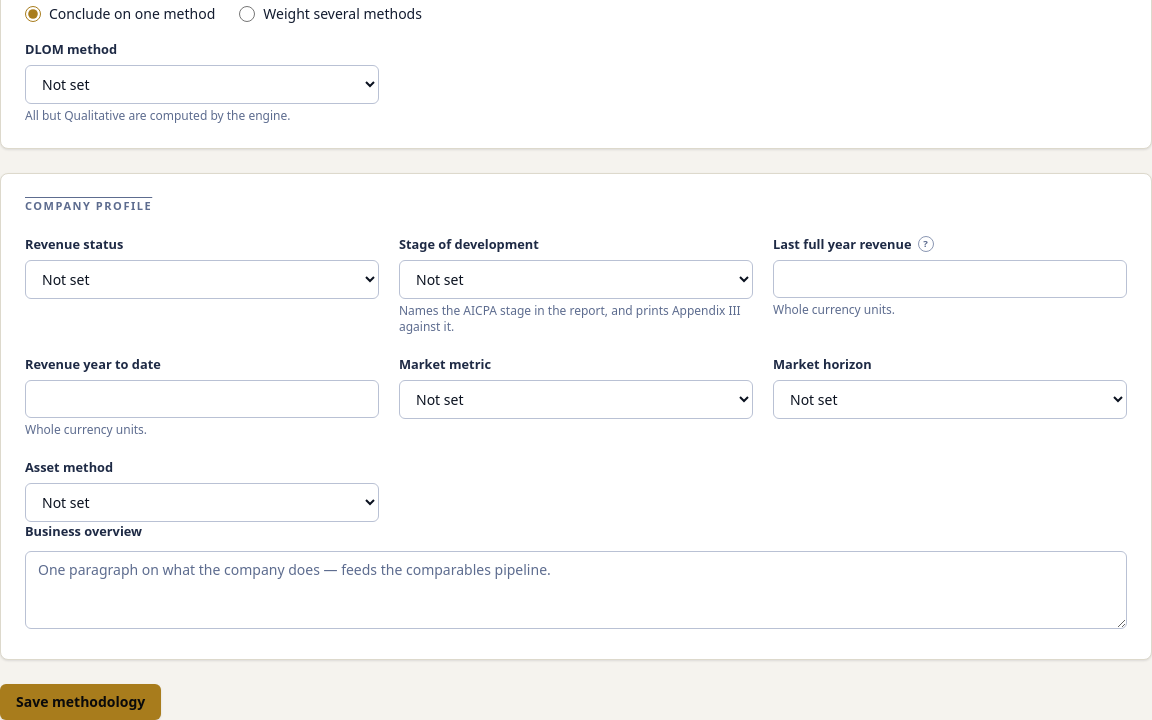
ParamsPanel — concurrent editors › reloads and explains itself on a conflict
The width and height of the screenshot is (1152, 720).
(page scrolled)
Click the button "Save methodology" at (81, 702), box [0, 684, 161, 719]
(page scrolled)
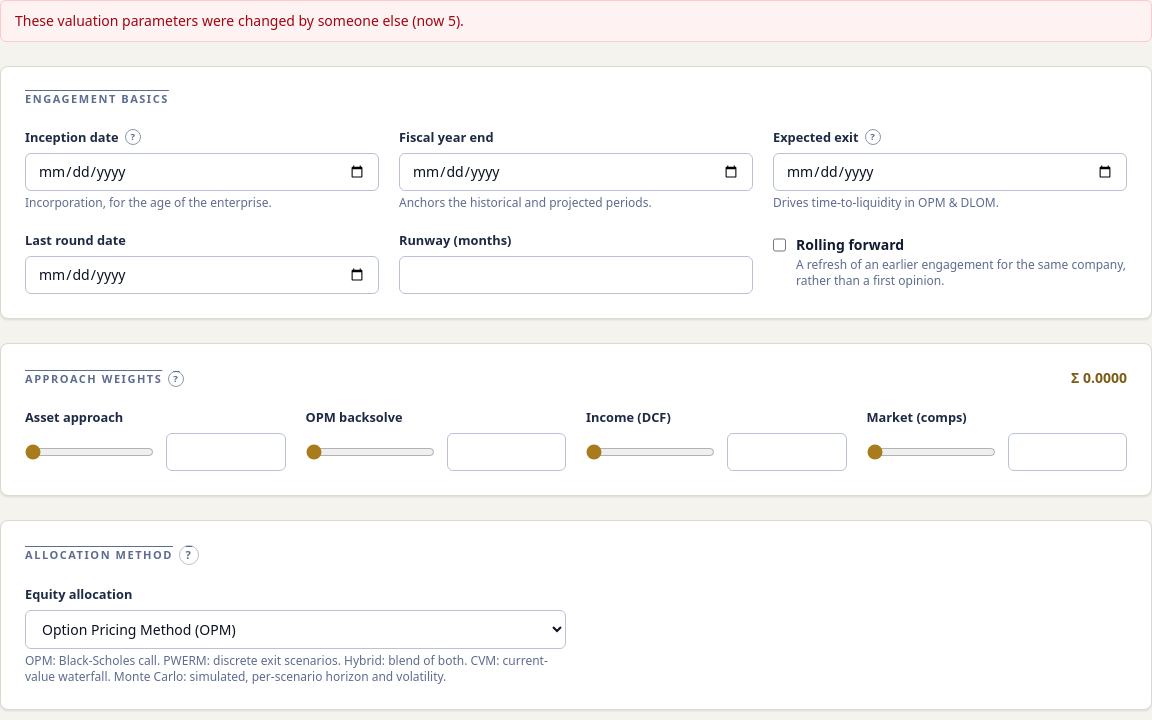
Now the text "These valuation parameters were changed by someone else (now 5)." is shown, box [0, 0, 1151, 42]
